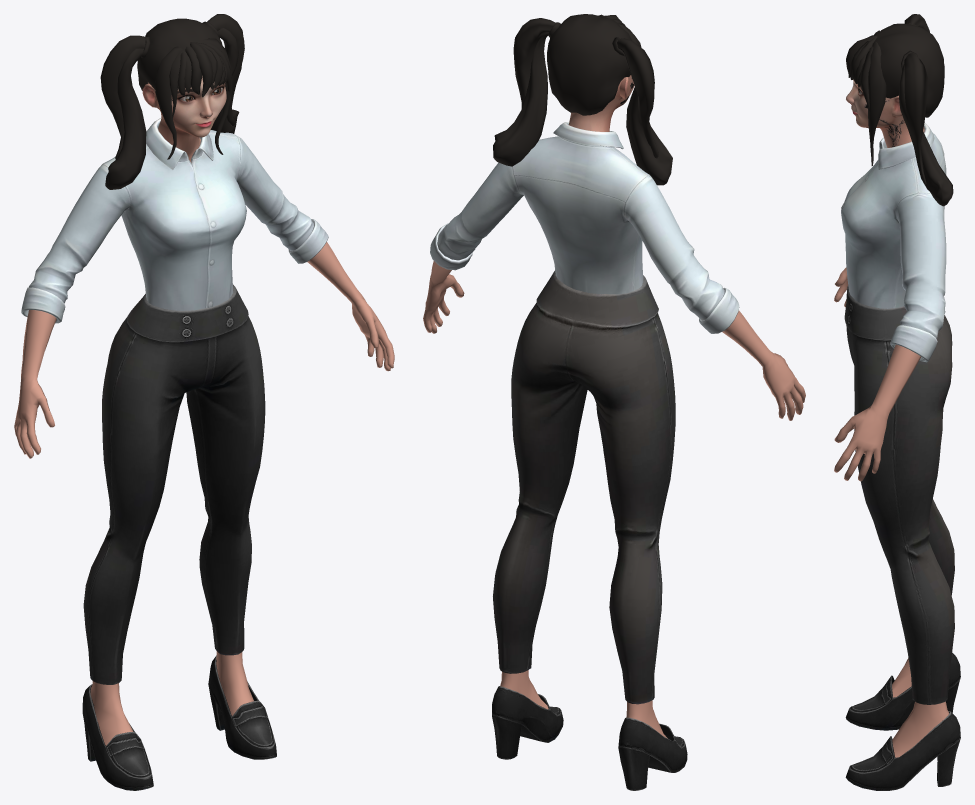
File: zong.fbx
3 views of the same model, side by side, from view 1: azimuth 30°, elevation 25°; view 2: azimuth 150°, elevation 25°; view 3: azimuth 270°, elevation 25° (orthographic). The views are drawn at different scales.
Parts seen in each view (by area): view 1: Wolf3D_Outfit_Bottom, Wolf3D_Outfit_Top, Wolf3D_Hair, Wolf3D_Body, Wolf3D_Outfit_Footwear, Wolf3D_Head; view 2: Wolf3D_Outfit_Bottom, Wolf3D_Outfit_Top, Wolf3D_Hair, Wolf3D_Outfit_Footwear, Wolf3D_Body, Wolf3D_Head; view 3: Wolf3D_Outfit_Bottom, Wolf3D_Outfit_Top, Wolf3D_Hair, Wolf3D_Outfit_Footwear, Wolf3D_Body, Wolf3D_Head.
Boxes of the visible parts, <box> form: Wolf3D_Outfit_Bottom: <box>83,284,265,684</box>; Wolf3D_Outfit_Top: <box>21,118,328,323</box>; Wolf3D_Hair: <box>100,14,244,189</box>; Wolf3D_Body: <box>14,242,394,745</box>; Wolf3D_Outfit_Footwear: <box>82,655,276,790</box>; Wolf3D_Head: <box>142,76,226,162</box>; Wolf3D_Outfit_Bottom: <box>493,270,675,704</box>; Wolf3D_Outfit_Top: <box>430,122,739,333</box>; Wolf3D_Hair: <box>493,14,672,185</box>; Wolf3D_Outfit_Footwear: <box>492,686,687,790</box>; Wolf3D_Body: <box>423,261,805,738</box>; Wolf3D_Head: <box>569,75,634,131</box>; Wolf3D_Outfit_Bottom: <box>844,285,954,704</box>; Wolf3D_Outfit_Top: <box>841,123,946,362</box>; Wolf3D_Hair: <box>846,14,953,206</box>; Wolf3D_Outfit_Footwear: <box>845,652,960,790</box>; Wolf3D_Body: <box>834,267,949,757</box>; Wolf3D_Head: <box>846,79,924,147</box>.
Size of the model in its own units: 0.9279 by 1.76 by 0.2801.
Materials: 8 (8 with a texture image).
